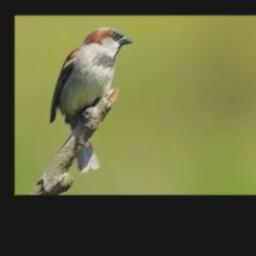Sparrow: (48, 27, 132, 173)
